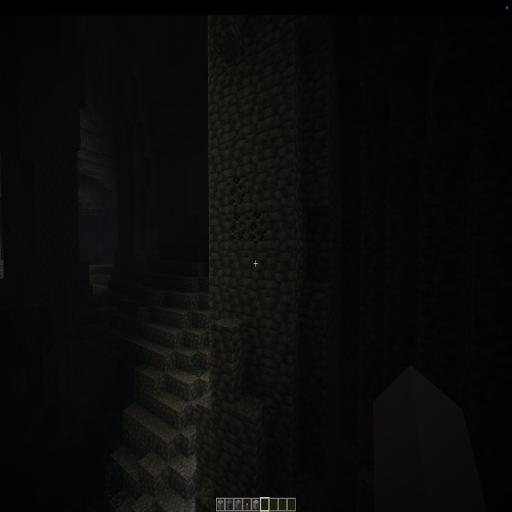coal ore: (226, 173, 270, 247)
